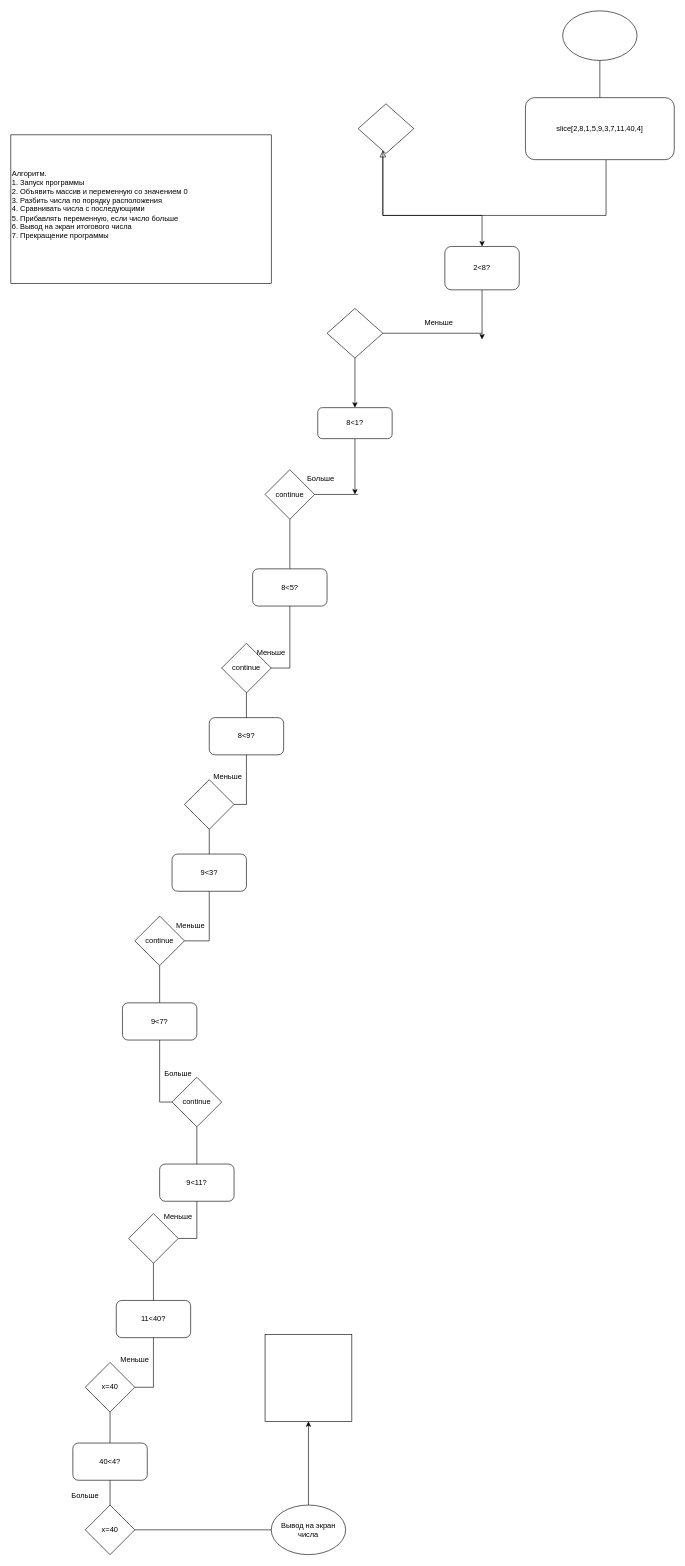
Some shapes in this 685 by 1566 pixel diagram are drawn without their labels. The shapes that lost their labels are listed below. From the top down, each one's box as (x1, y1, x2, y2) in pixels, then its label:
(562, 10, 637, 60): Запуск
(357, 103, 414, 153): x = 0
(326, 308, 383, 358): x = 8
(184, 779, 234, 829): x=9
(128, 1213, 178, 1263): x=11
(264, 1334, 352, 1421): break
